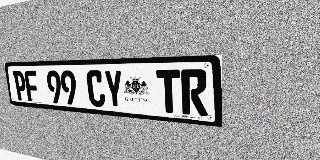9: (60, 70, 78, 105), (46, 70, 63, 104)
C: (86, 70, 106, 107)
F: (24, 71, 40, 102)
P: (12, 71, 28, 101)
R: (181, 69, 208, 116)
T: (156, 69, 181, 114)
Y: (103, 70, 125, 109)
